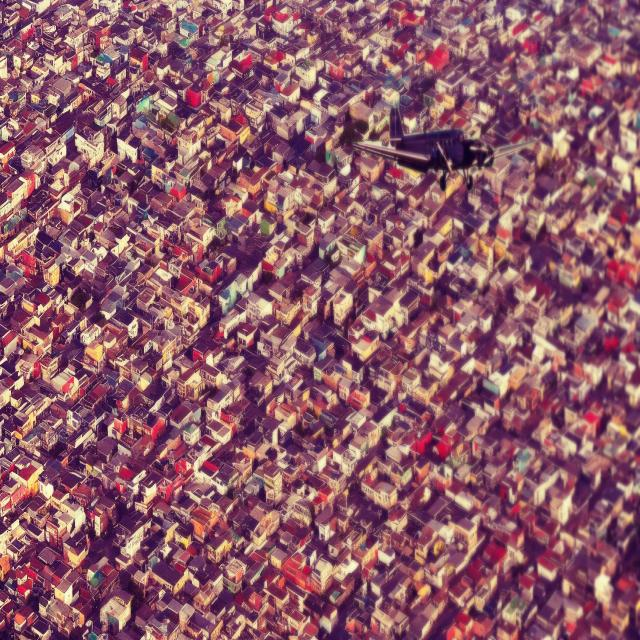airplane: (351, 106, 538, 192)
